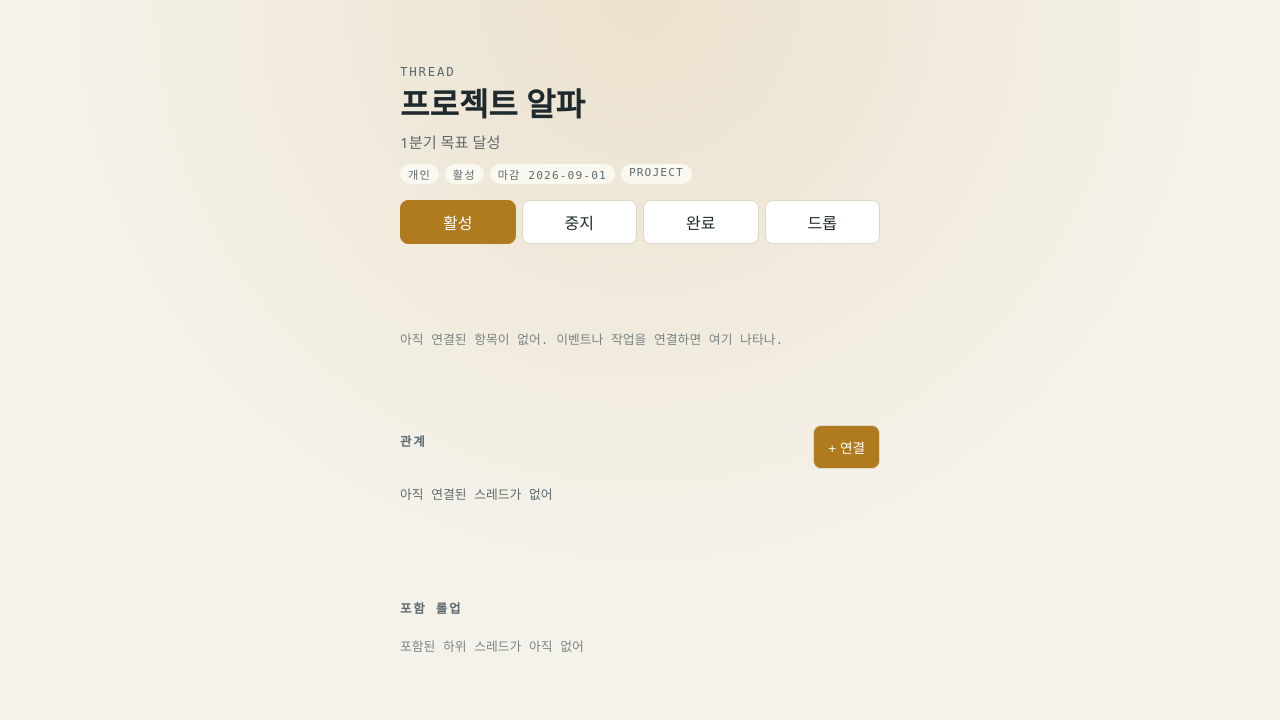
Thread — empty items still expose relations › opens the relation sheet from an empty thread (FR-THR-09 first-link path)
Click the button with aria-label "관계 추가": (847, 447) [813,425,880,469]
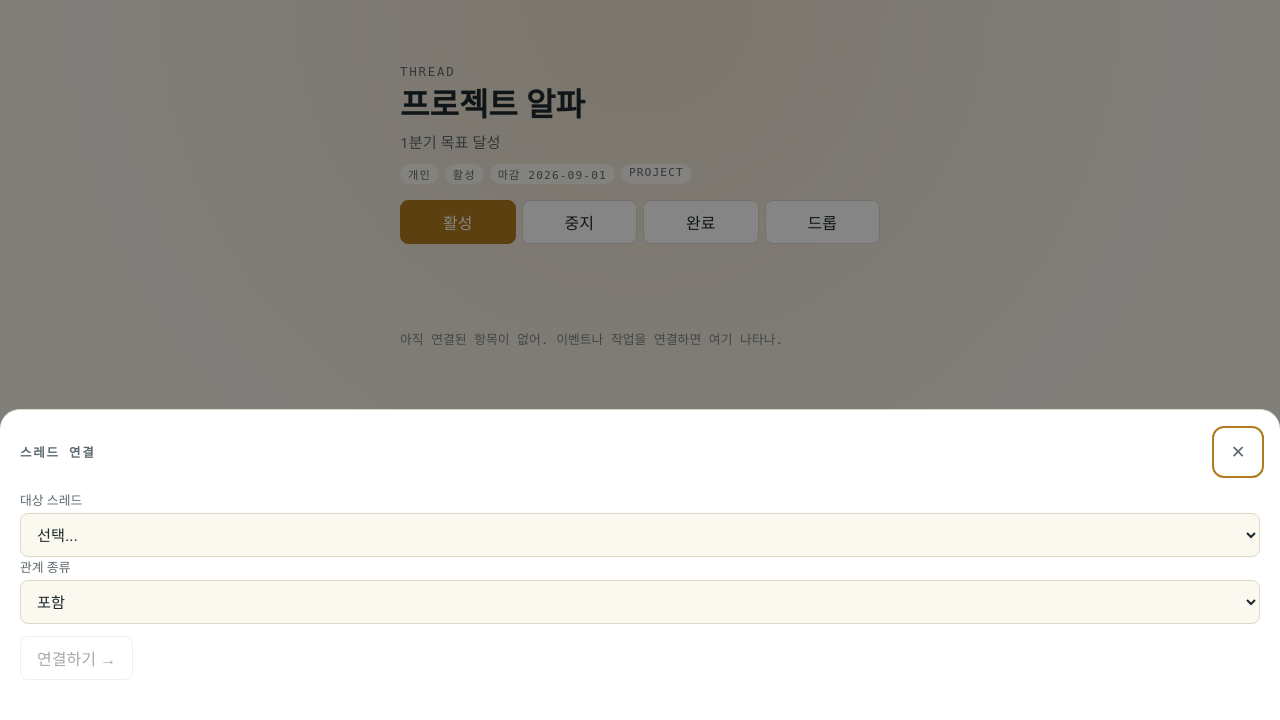
expect the dialog is shown: met, box [0,409,1279,719]
